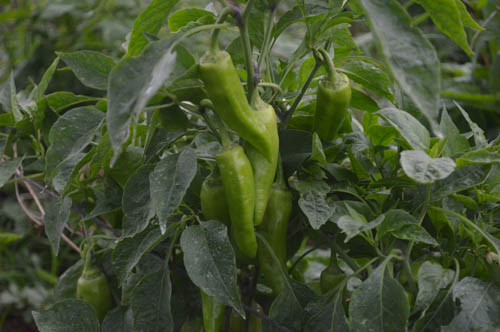ChiliPepper: (202, 51, 286, 164), (209, 144, 256, 257), (241, 92, 274, 226), (259, 180, 296, 297), (311, 67, 353, 149), (189, 175, 234, 229), (75, 268, 120, 314), (192, 284, 225, 332)
